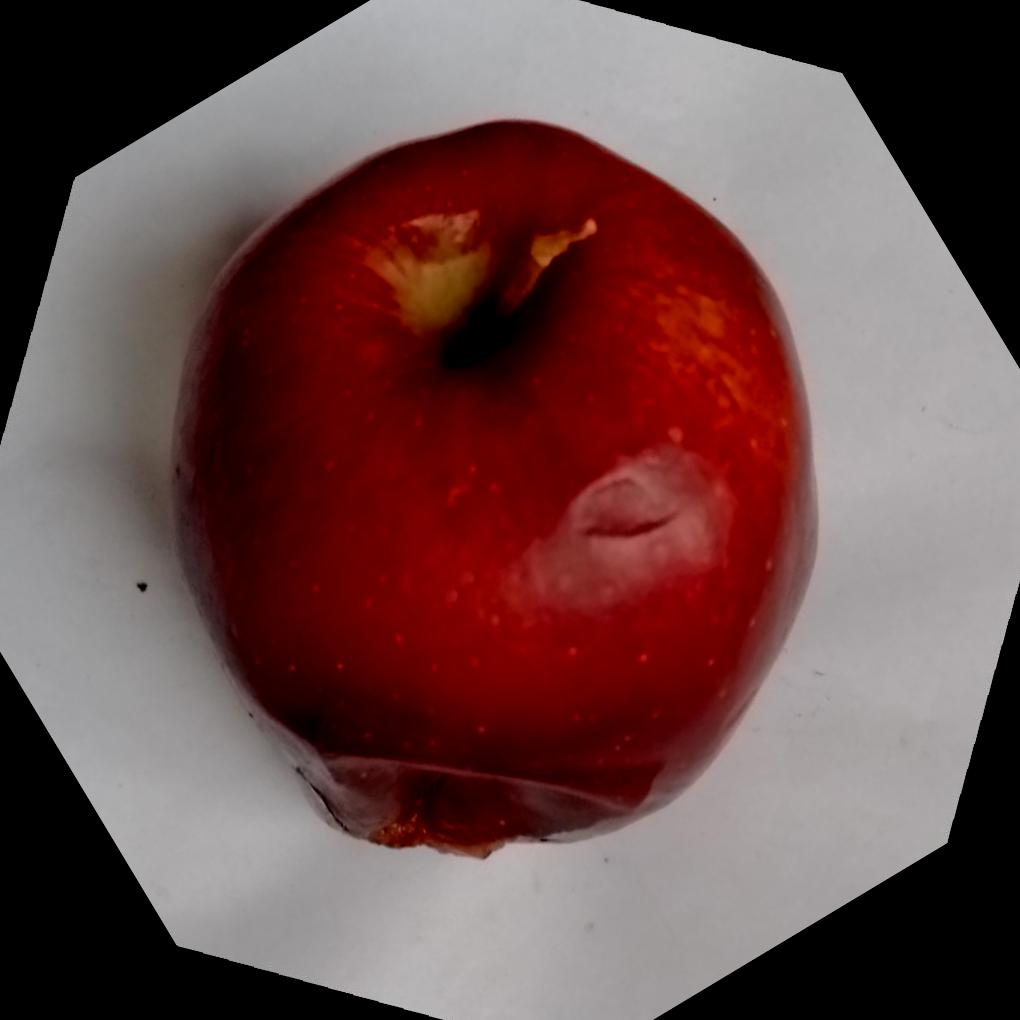FreshOrange: (167, 119, 821, 864)
